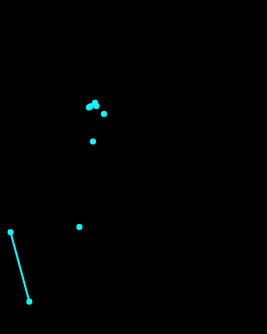warrior_1: (5, 86, 116, 308)
